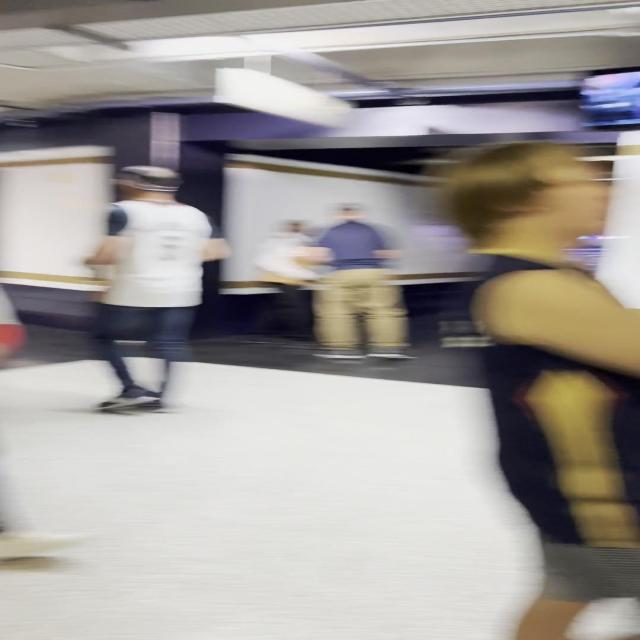NO-Mask: (548, 163, 620, 235)
